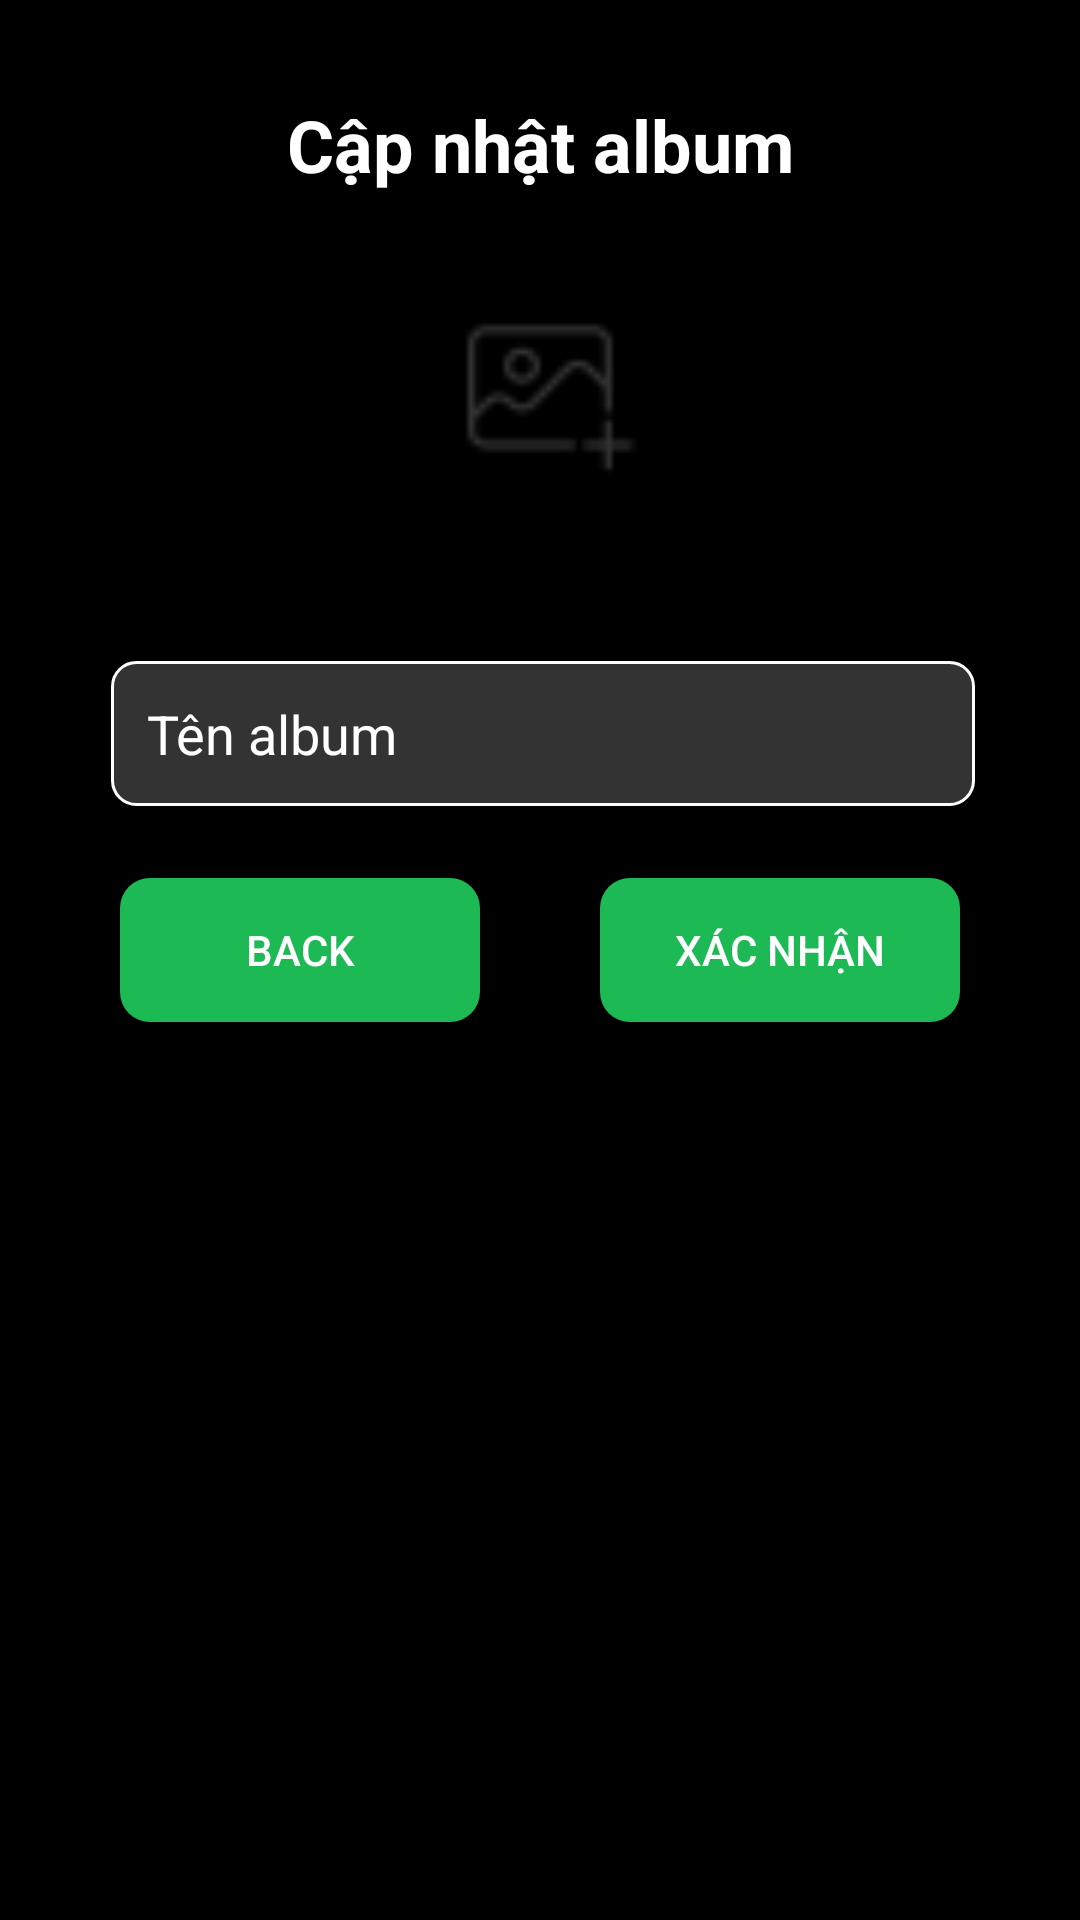

Point at icon controls on the screen. Image size 1080px x 1920px, points as point (x, y).
add picture: point (548, 397)
